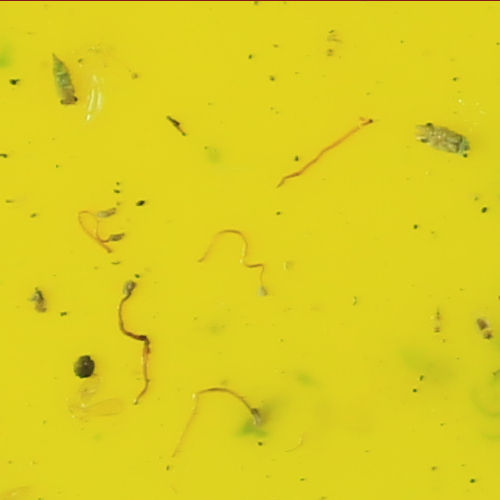Glycaspis: (415, 120, 469, 161), (51, 52, 79, 109)
